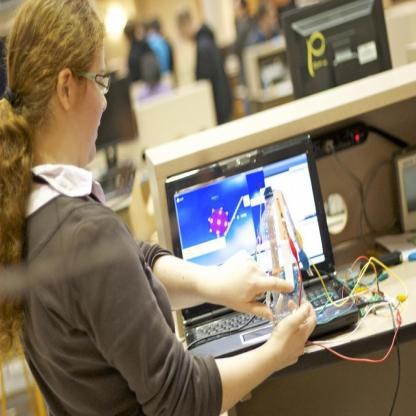board: (164, 130, 358, 359)
